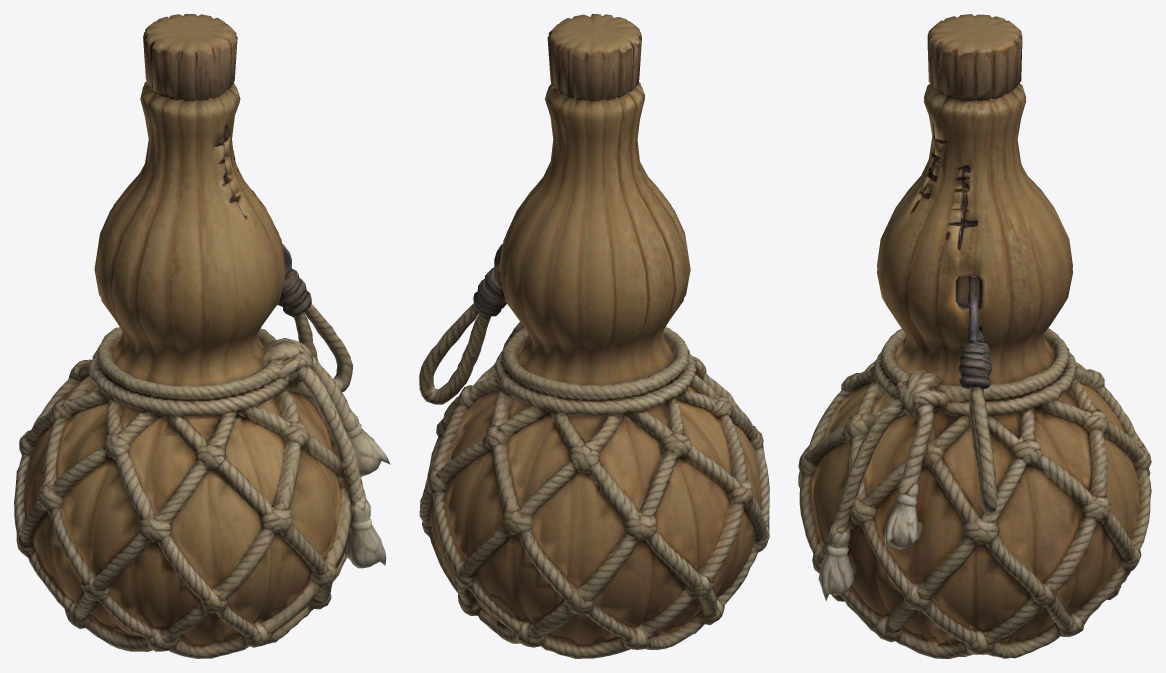
The model's file is gourd.glb.
3 renders of one model, left to right at view 1: azimuth 30°, elevation 25°; view 2: azimuth 150°, elevation 25°; view 3: azimuth 270°, elevation 25°, orthographic.
Visible parts, largest first — view 1: gourd; view 2: gourd; view 3: gourd.
Boxes of the visible parts, x1,y1,x2,y2 form: gourd: [14, 14, 390, 658]; gourd: [419, 14, 769, 658]; gourd: [798, 14, 1151, 658].
Size of the model in its own units: 0.1261 by 0.22 by 0.1201.
Materials: 1 (1 with a texture image).
